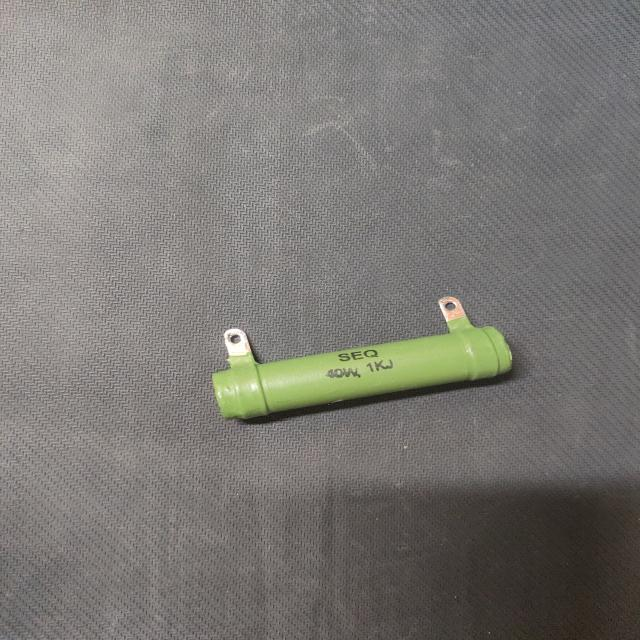resistor: (203, 289, 525, 431)
